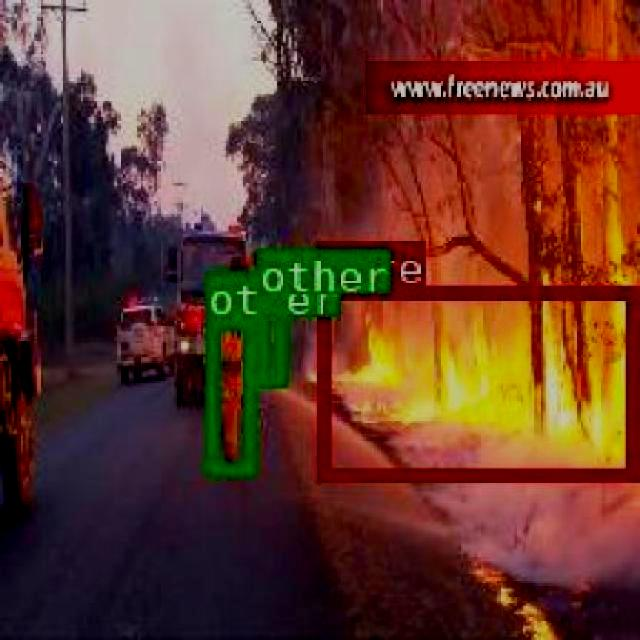fire: (314, 284, 634, 478)
